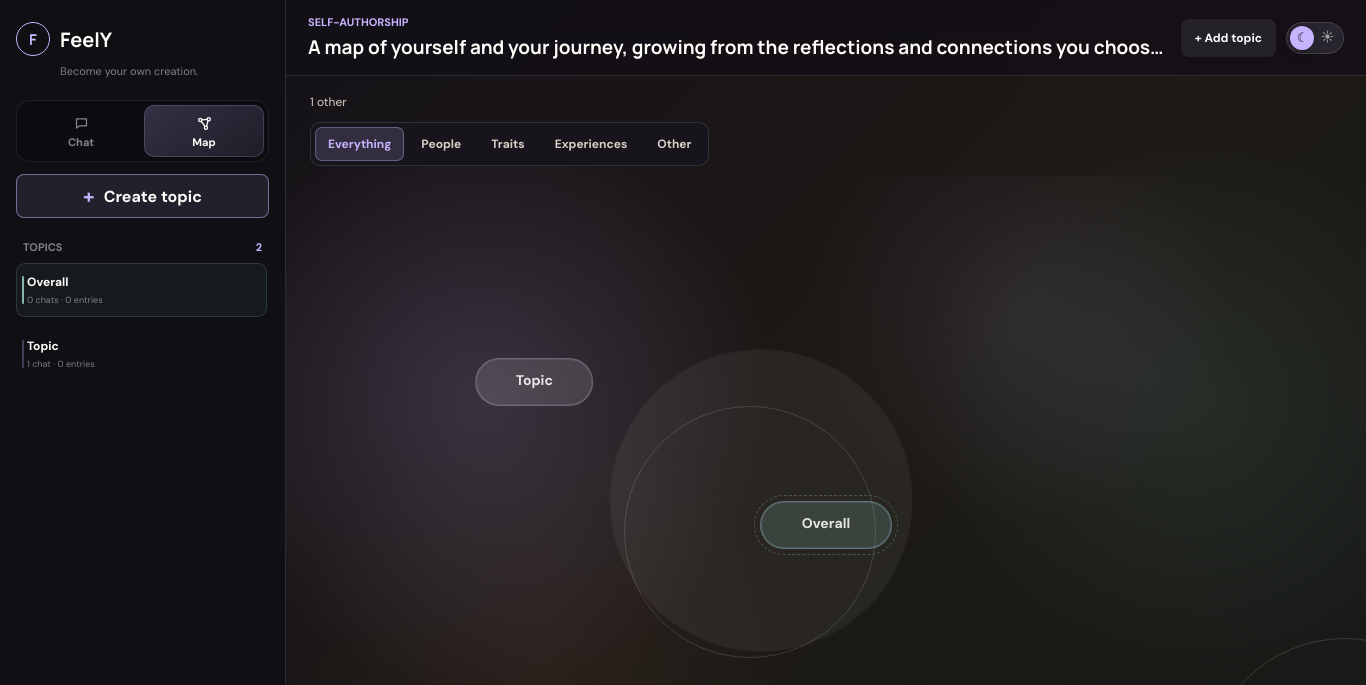
Test: real Chat shell/composer/history/stream › Map source label resolves server conversation title and opens its real ordered history
Click the button with aria-label "Open Topic": (534,382) [476,358,593,406]
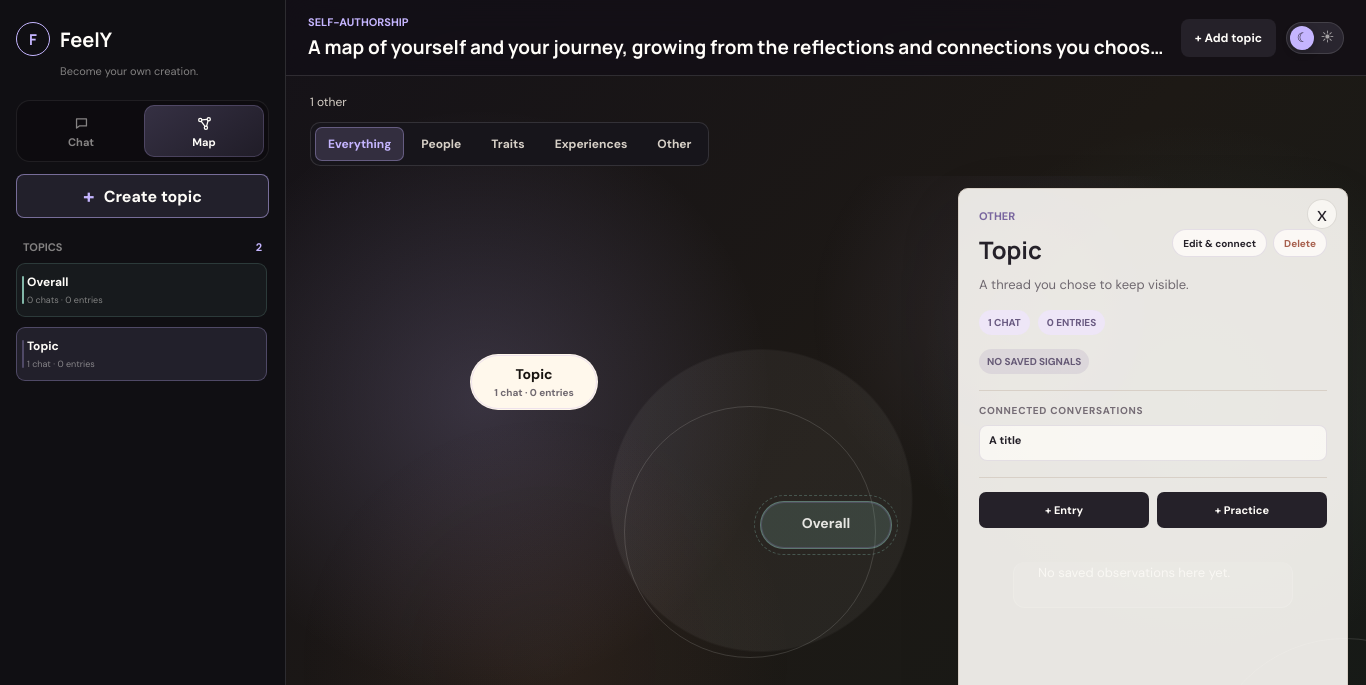
Click the link "A title": (1005,440) [979,425,1327,461]
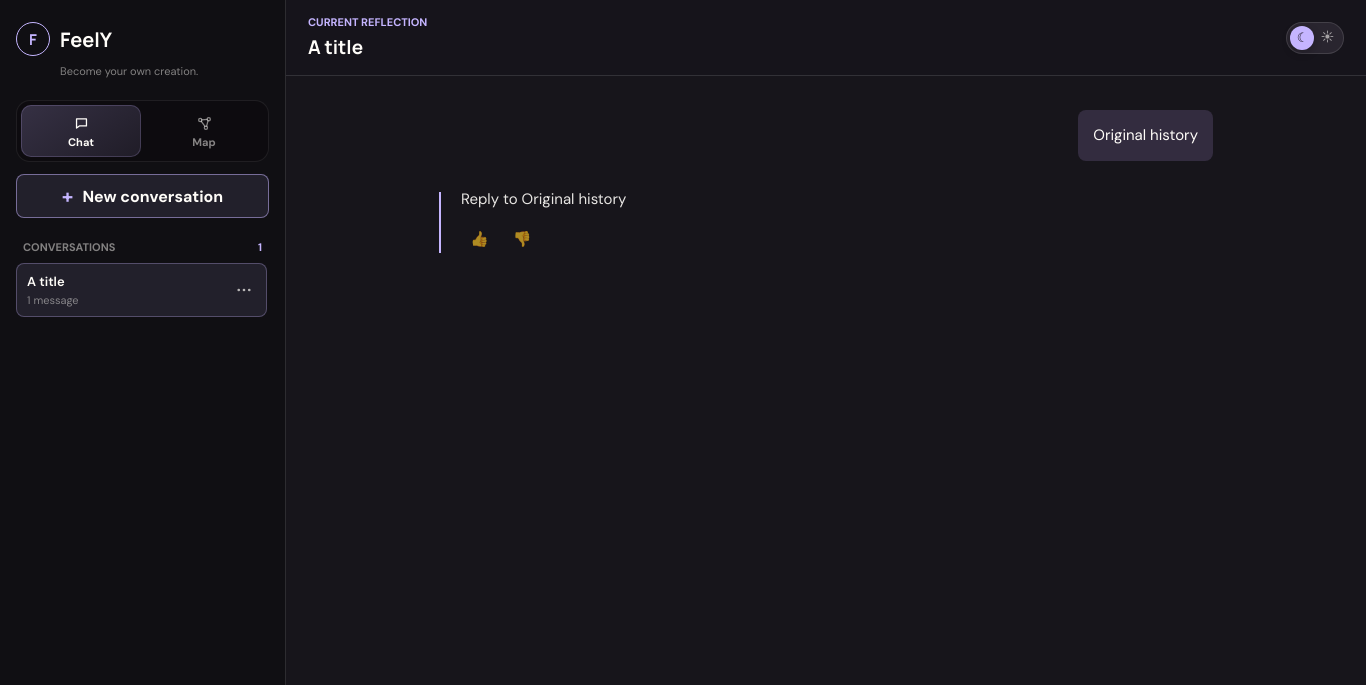
Result: the text "Original history" is shown at [1078,110,1213,161]
Result: the heading "A title" is shown at [308,34,363,60]
